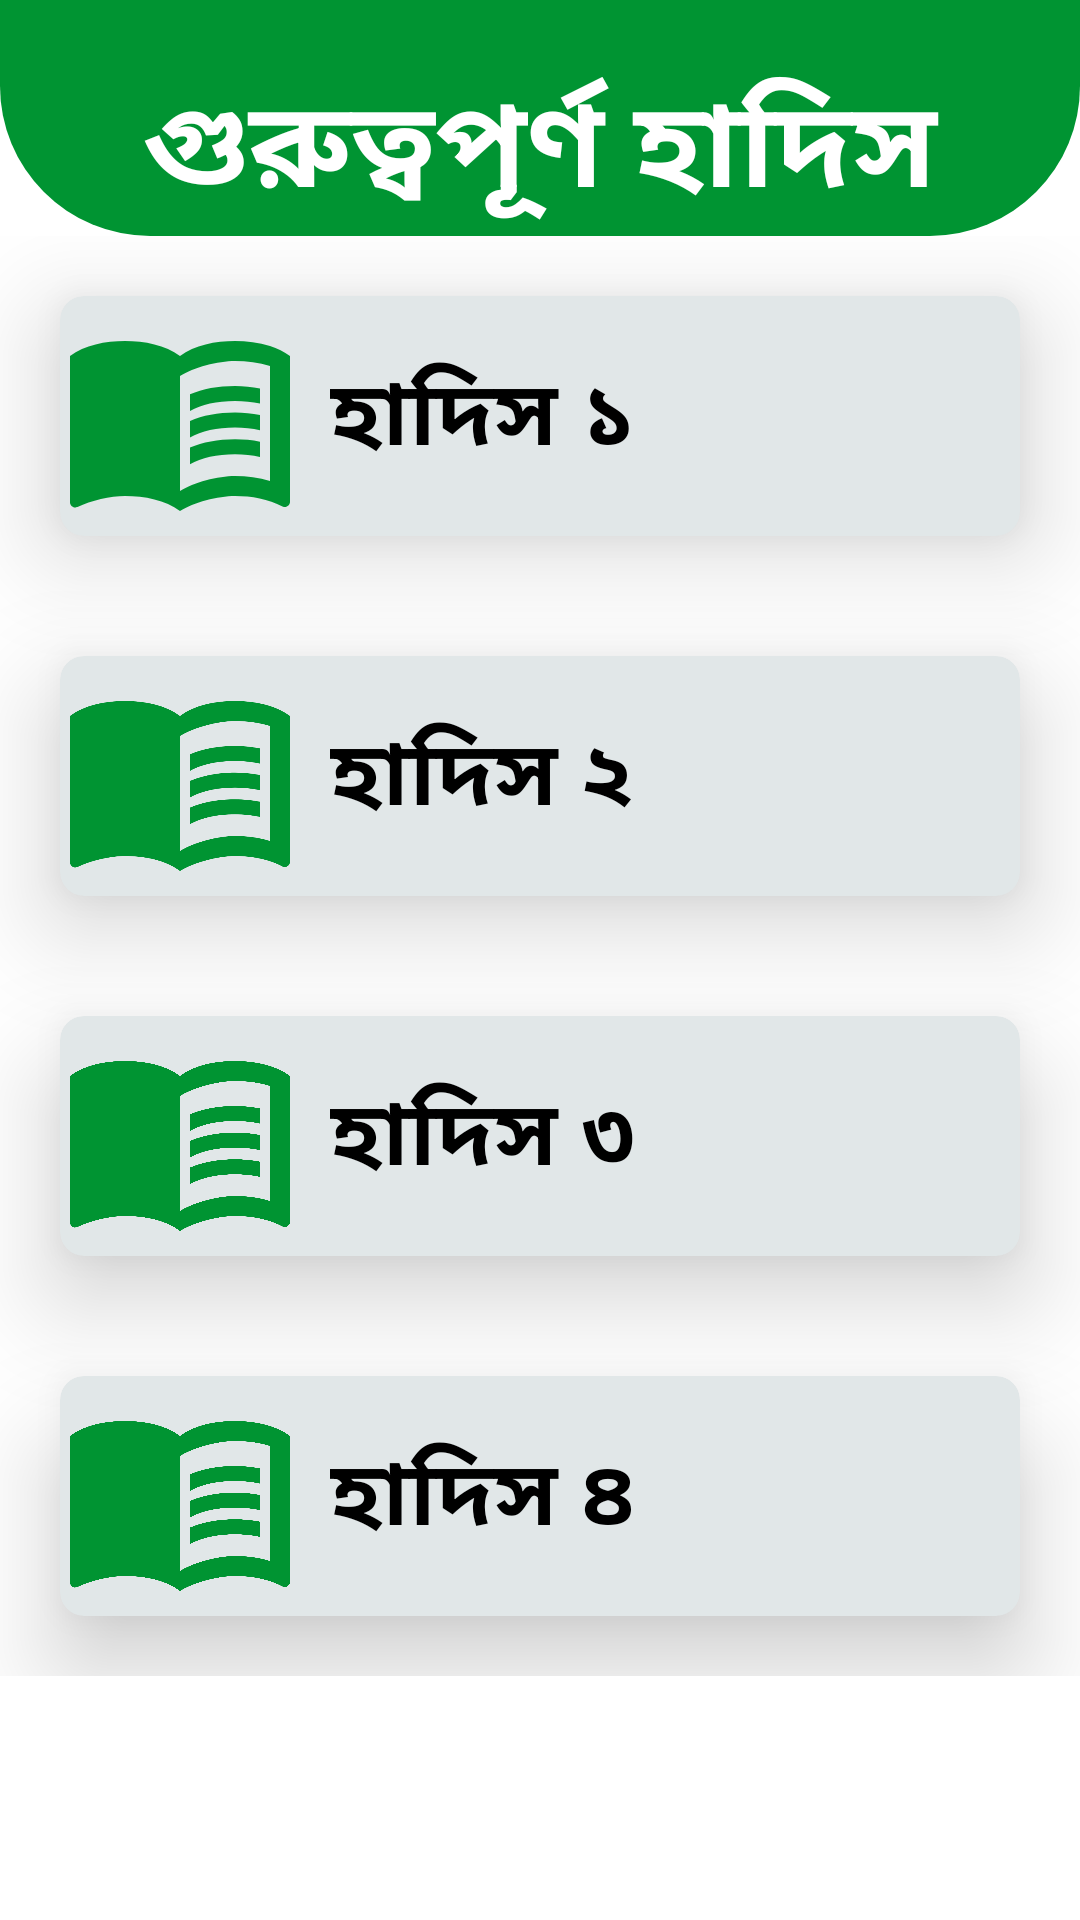

Icon click points for this 1080 x 1920 phone screenshot, format point (x, y):
book: point (180, 426), point (180, 786), point (180, 1146), point (180, 1506)
